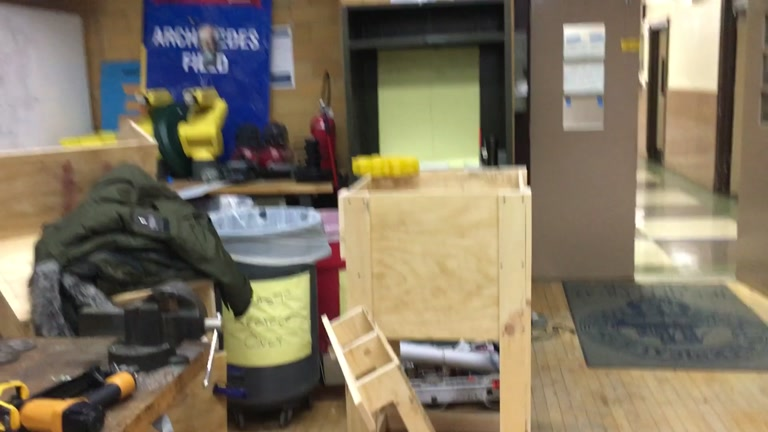gear: (350, 153, 421, 179)
